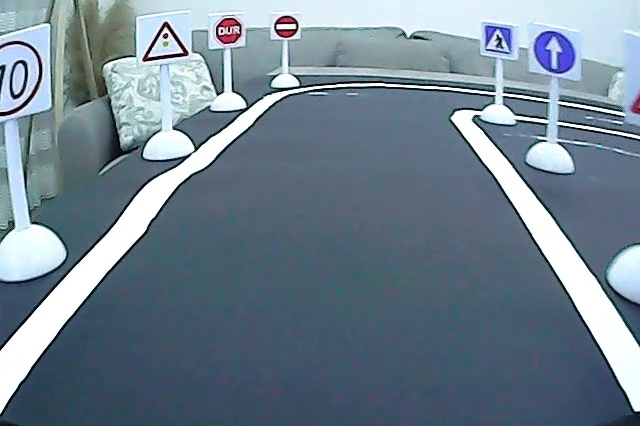do not enter: (270, 14, 300, 41)
pedestrian crossing: (482, 22, 515, 60)
red light: (142, 18, 191, 64)
stop sign: (211, 15, 245, 49)
